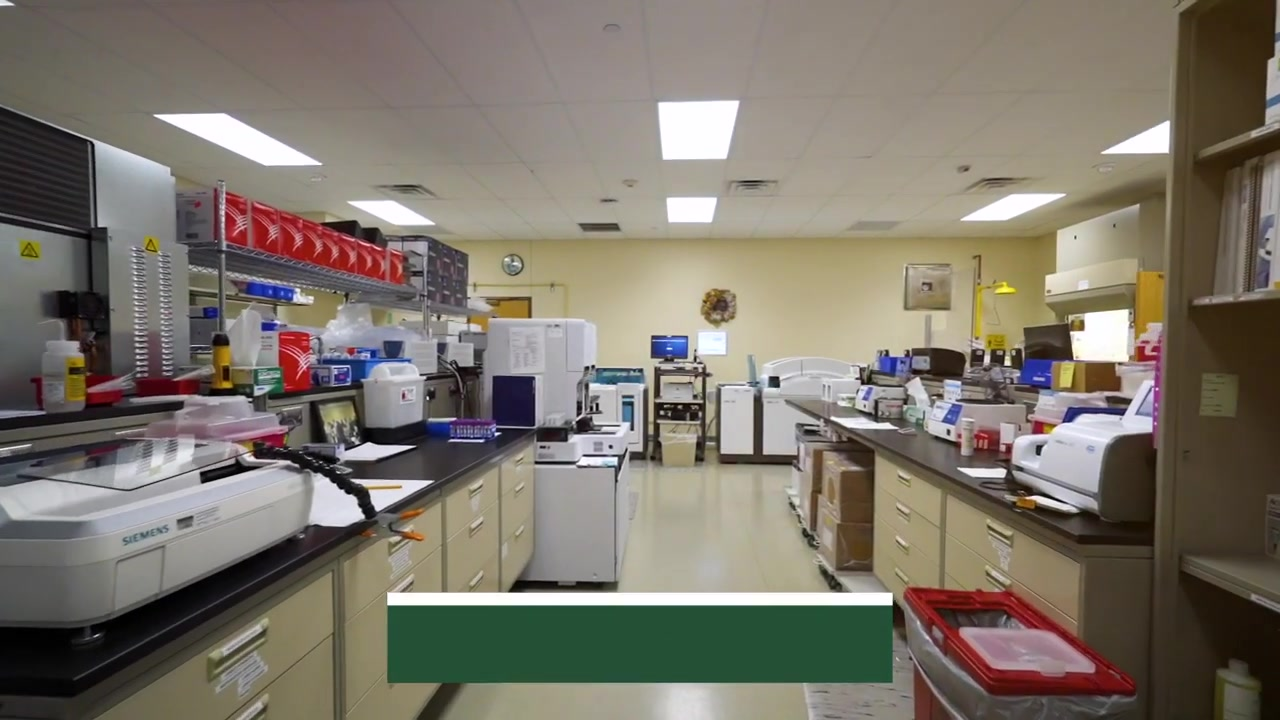computer: (1022, 325, 1072, 359), (651, 335, 688, 360)
countertop: (1, 426, 534, 700), (782, 396, 1159, 544)
drawer: (1, 432, 538, 720), (873, 447, 1150, 719)
handle: (202, 618, 271, 677), (980, 519, 1014, 548), (980, 564, 1011, 593), (389, 526, 420, 554), (466, 514, 488, 537), (465, 570, 488, 591), (468, 478, 489, 500), (891, 535, 912, 557), (893, 502, 911, 525), (893, 471, 912, 491), (892, 569, 910, 586), (514, 480, 529, 498), (513, 453, 531, 468), (513, 525, 531, 539)
waste_bin: (901, 585, 1139, 720), (659, 432, 696, 469)
